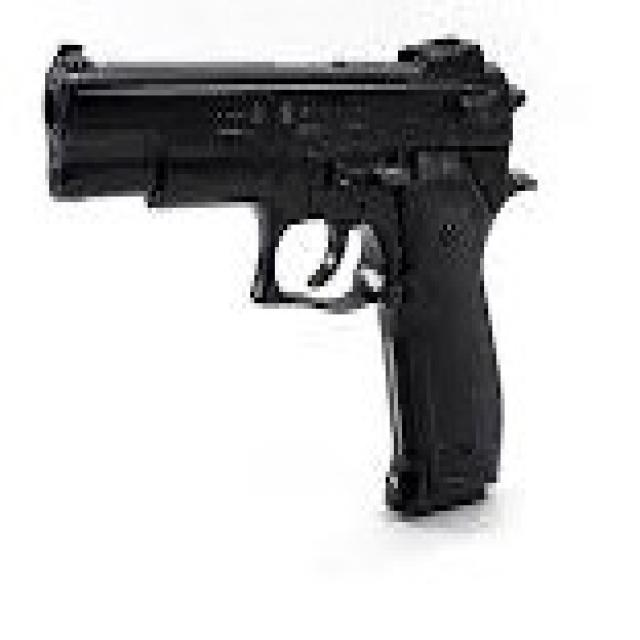pistol: (33, 27, 545, 538)
